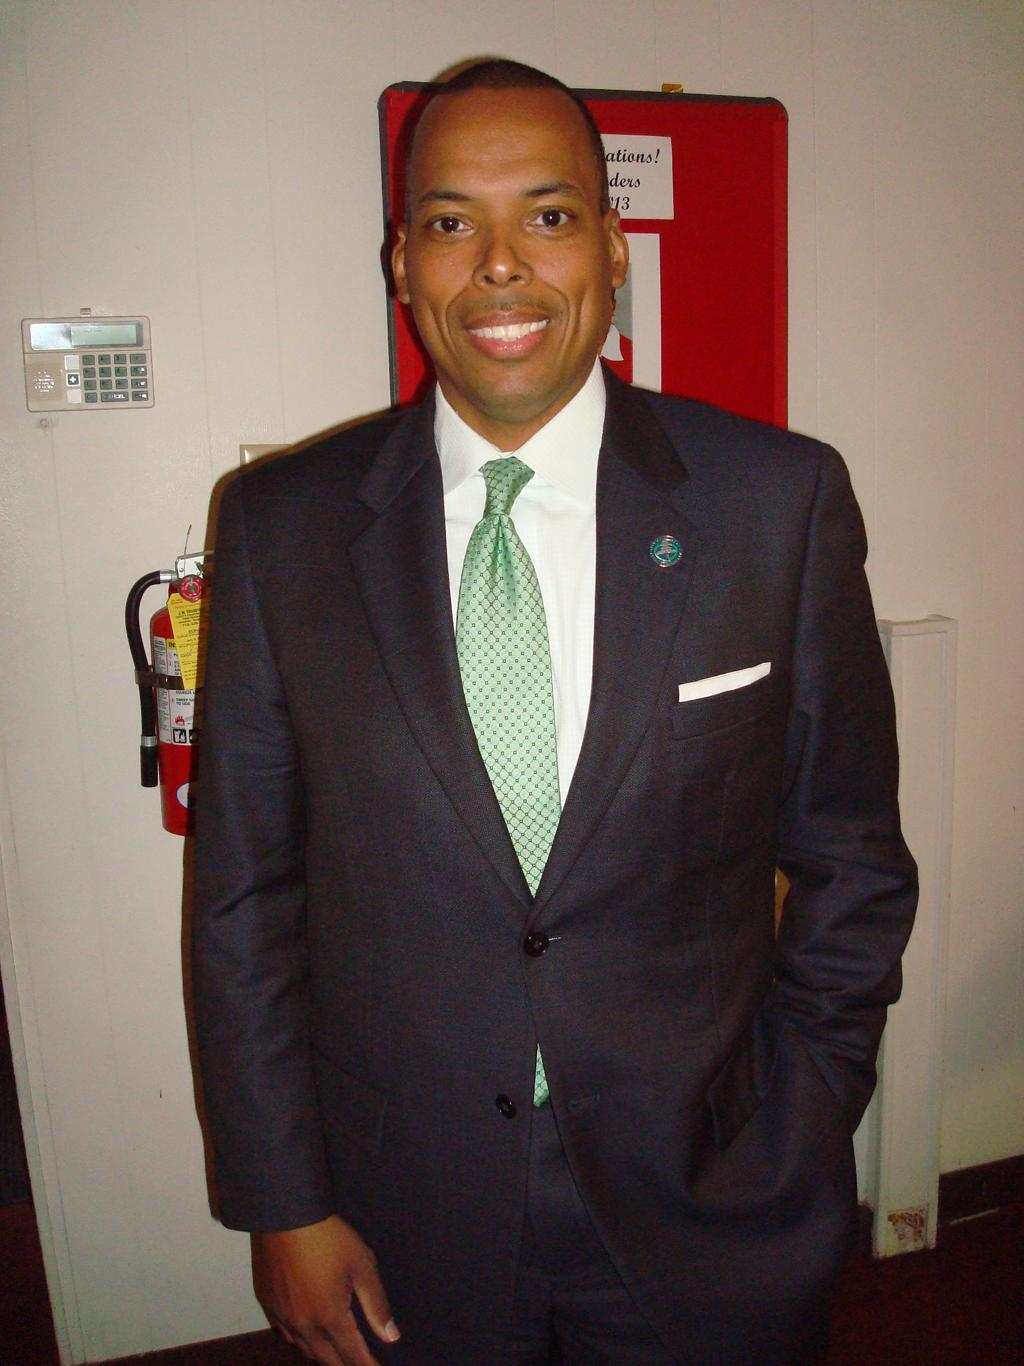face: (409, 89, 614, 417)
